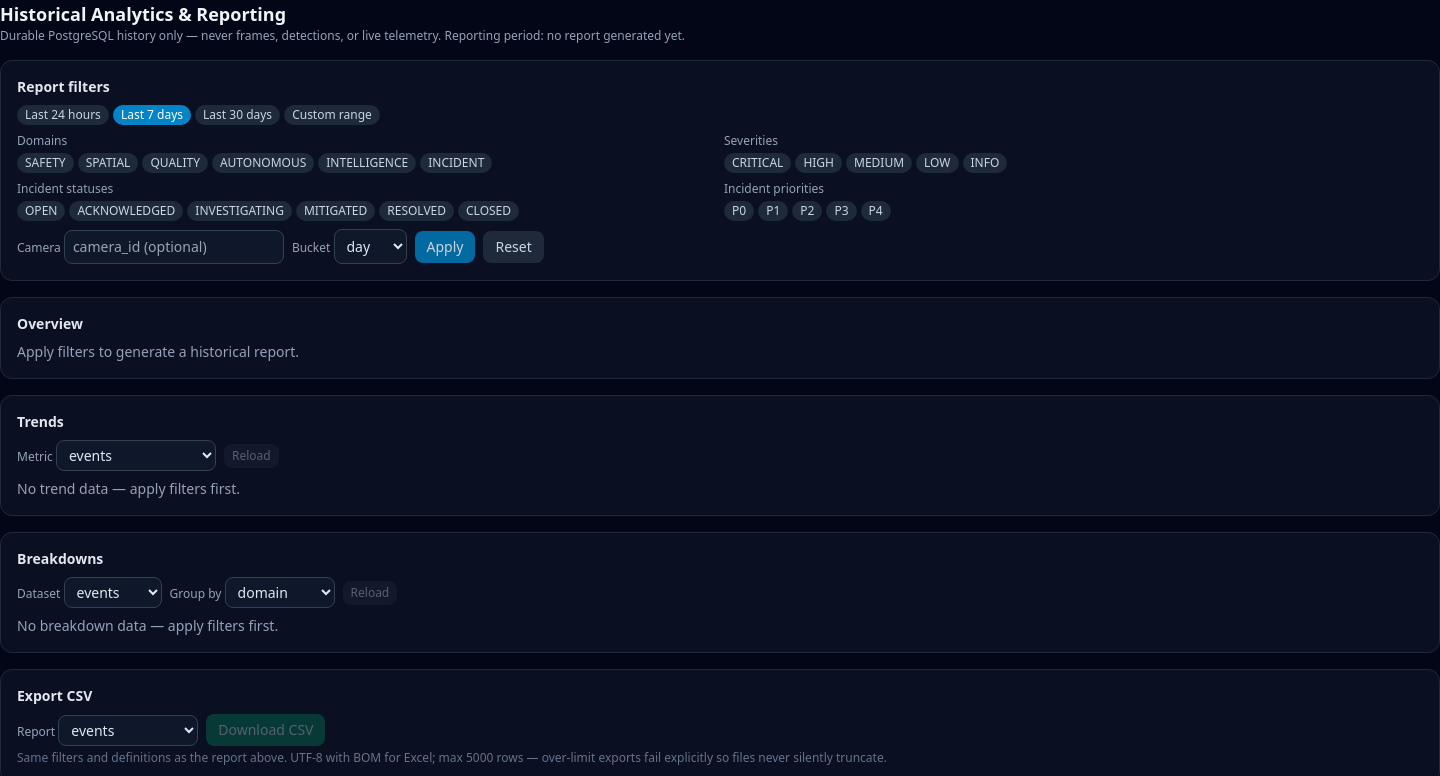
AnalyticsPage › renders totals from real response contracts after apply
This screenshot has width=1440, height=776.
Click the button "Apply". click: coordinates (445, 246)
box: [414,230,475,262]
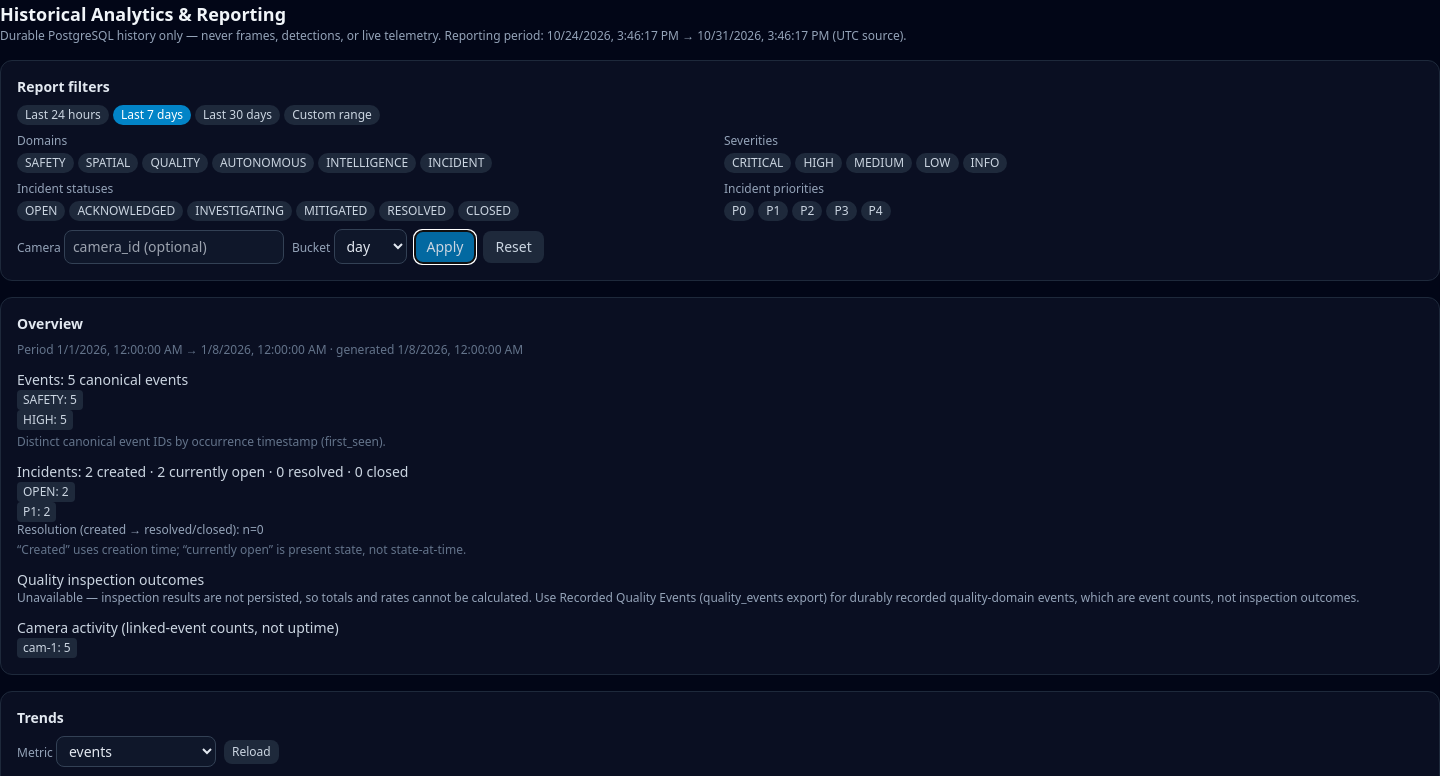
Now the text "Events: 5 canonical events" is shown, box [17,370,188,389]
Now the text "2 created" is shown, box [17,462,408,481]
Now the text "SAFETY: 5" is shown, box [17,390,83,410]
